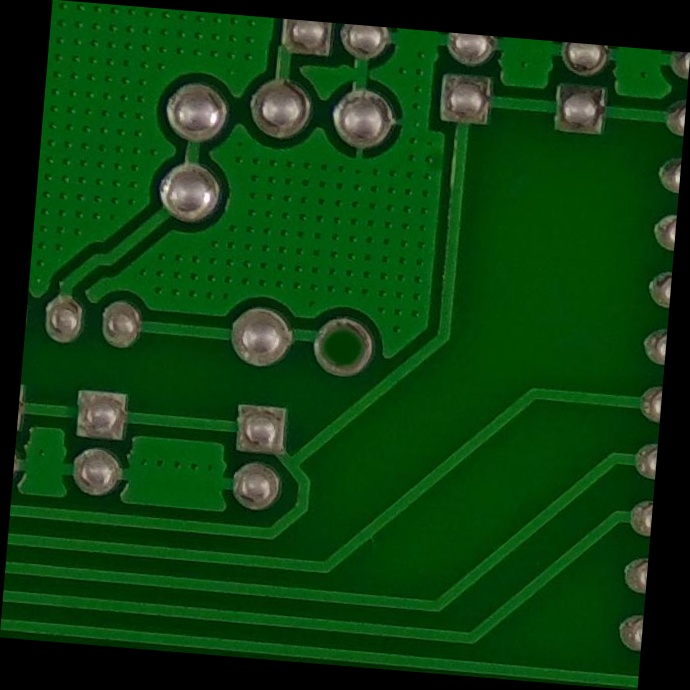missing_hole: (302, 302, 388, 388)
